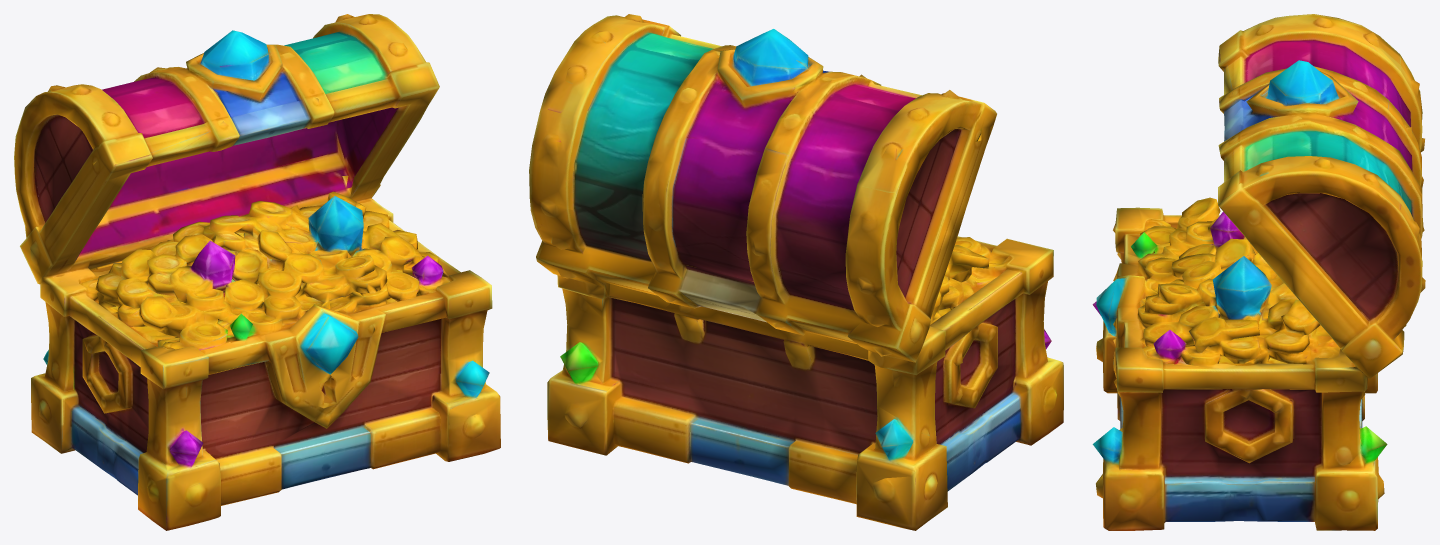
File: treasure.glb
The picture shows the model from 3 angles, left to right: view 1: azimuth 30°, elevation 25°; view 2: azimuth 150°, elevation 25°; view 3: azimuth 270°, elevation 25°; orthographic projection. The views are drawn at different scales.
Visible parts, largest first — view 1: Mesh1.0; view 2: Mesh1.0; view 3: Mesh1.0.
Part boxes in pixels (box(x1,y1,x2,y2)): Mesh1.0: box(14, 14, 500, 530); Mesh1.0: box(529, 14, 1063, 530); Mesh1.0: box(1092, 14, 1425, 530).
Size of the model in its own units: 1.77 by 1.91 by 1.49.
1 material, 1 textured.
